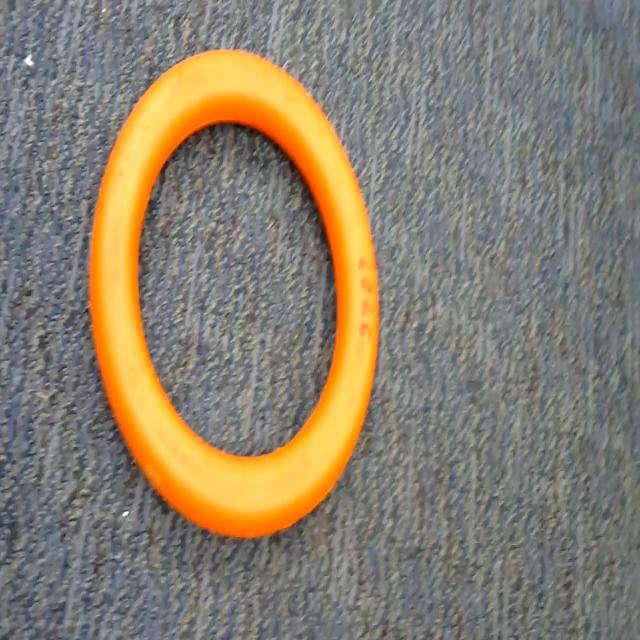note: (83, 48, 393, 559)
